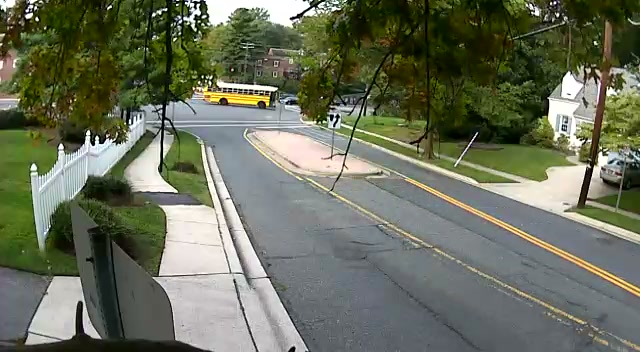bus: (203, 83, 279, 109)
car: (600, 151, 640, 189), (282, 96, 299, 105)
